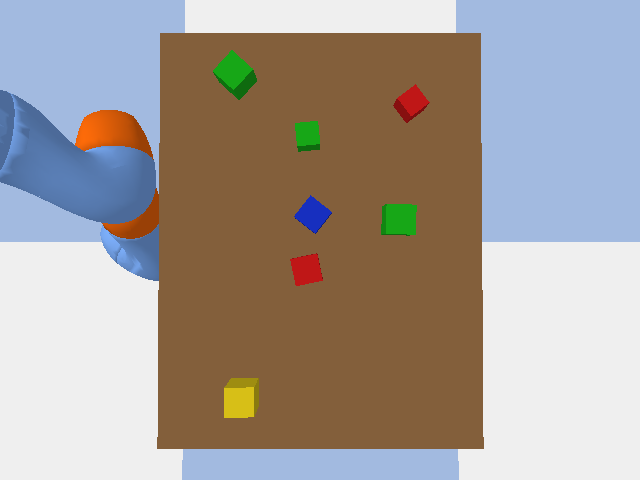blue_obj: (294, 195, 331, 233)
green_obj: (213, 50, 256, 99), (381, 204, 416, 235), (295, 121, 319, 151)
red_obj: (393, 84, 429, 122), (290, 253, 322, 285)
yellow_obj: (224, 378, 258, 417)
